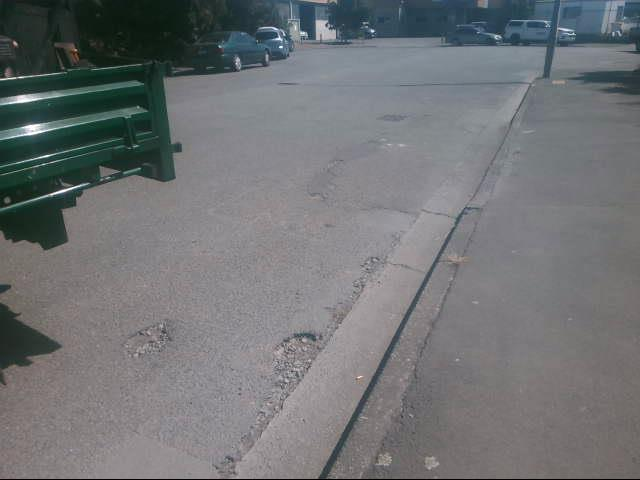pothole: (270, 332, 322, 369), (137, 328, 171, 355)
